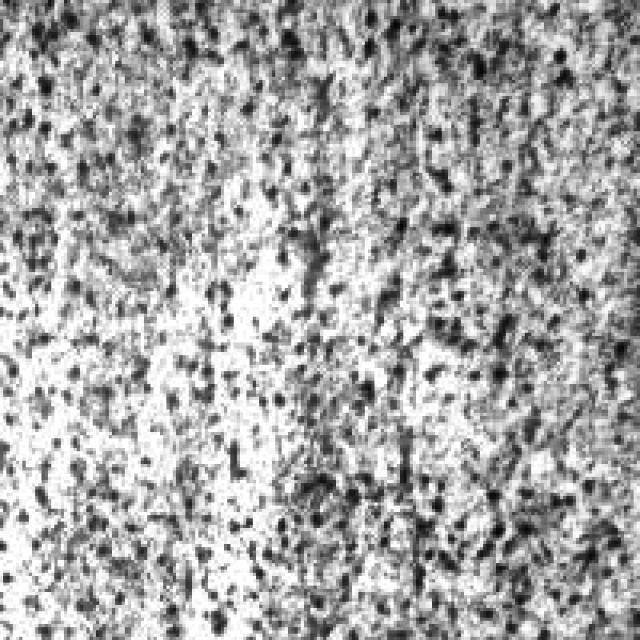Rolled_in_Scale: (0, 0, 634, 637)
